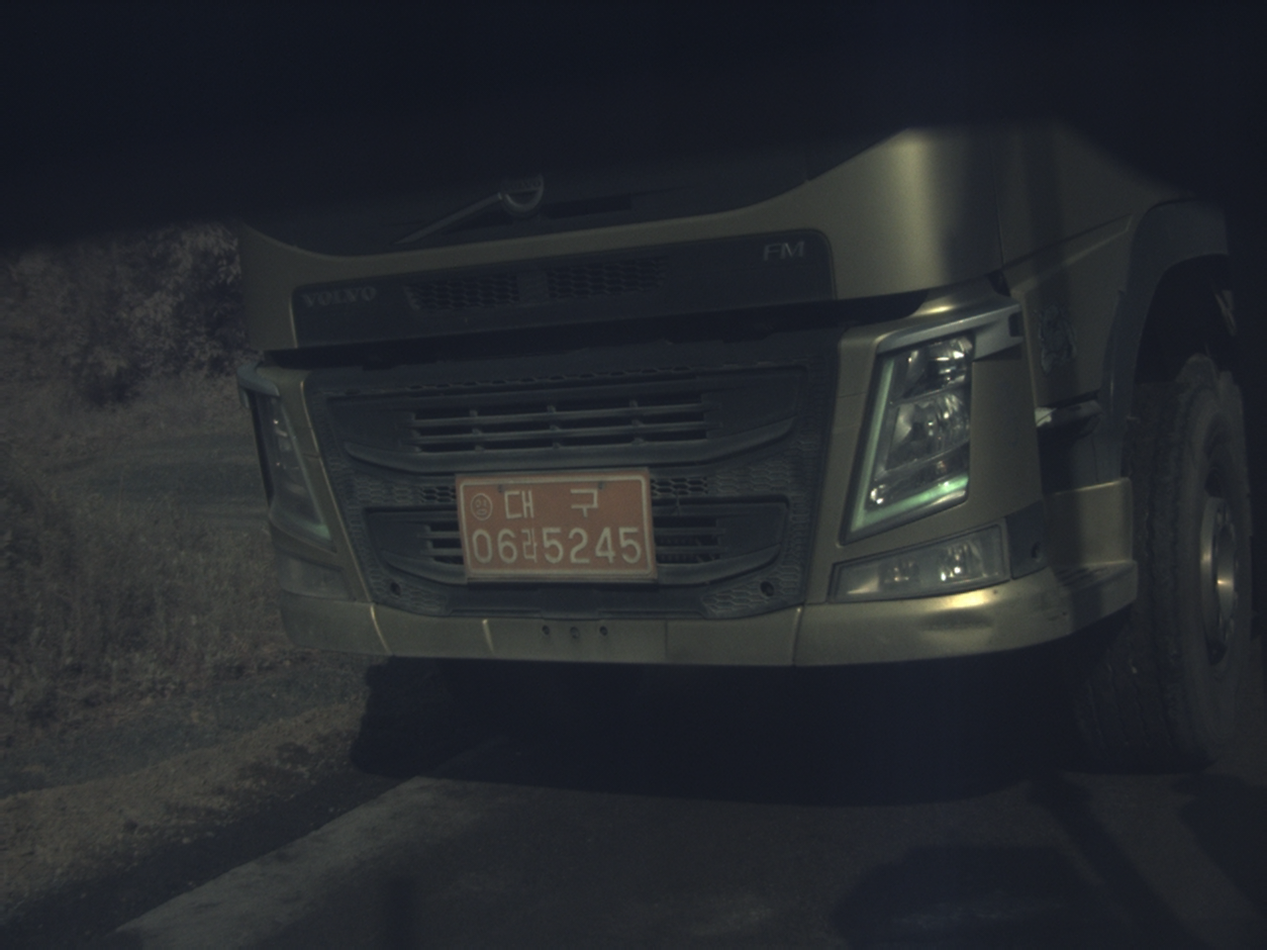license_plate: (458, 471, 656, 581)
truck: (240, 122, 1250, 766)
